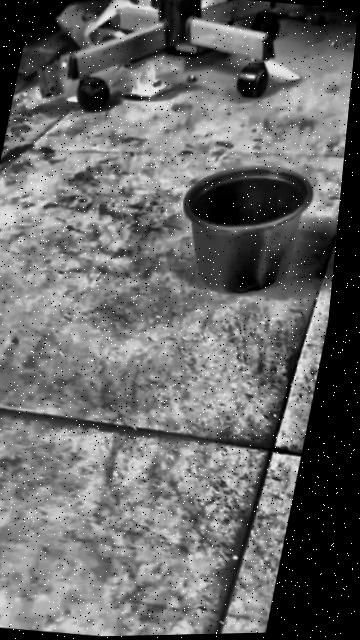pot: (166, 156, 319, 300)
